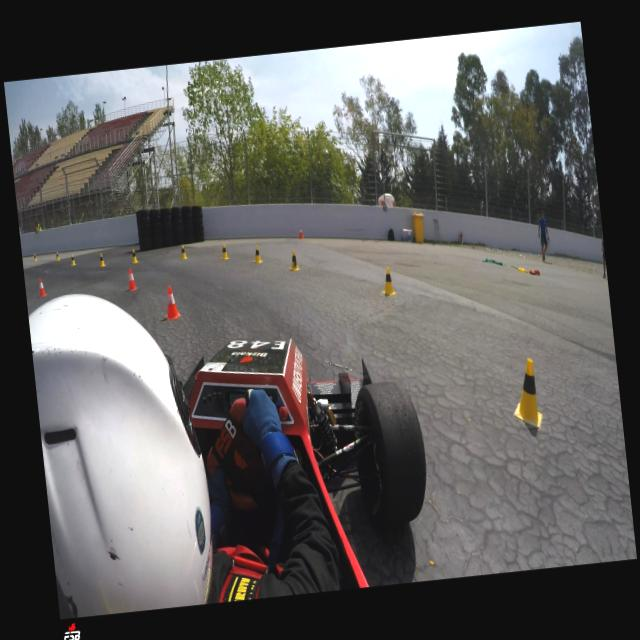orange_cone: (162, 284, 180, 320), (124, 266, 138, 291), (37, 277, 47, 297), (296, 226, 304, 238)
yellow_cone: (508, 356, 544, 431), (378, 266, 396, 296), (286, 249, 300, 272), (250, 244, 262, 264), (219, 242, 229, 260), (178, 243, 188, 260), (96, 252, 105, 267), (129, 248, 138, 263), (69, 253, 76, 266), (54, 250, 60, 260), (33, 253, 38, 261)
